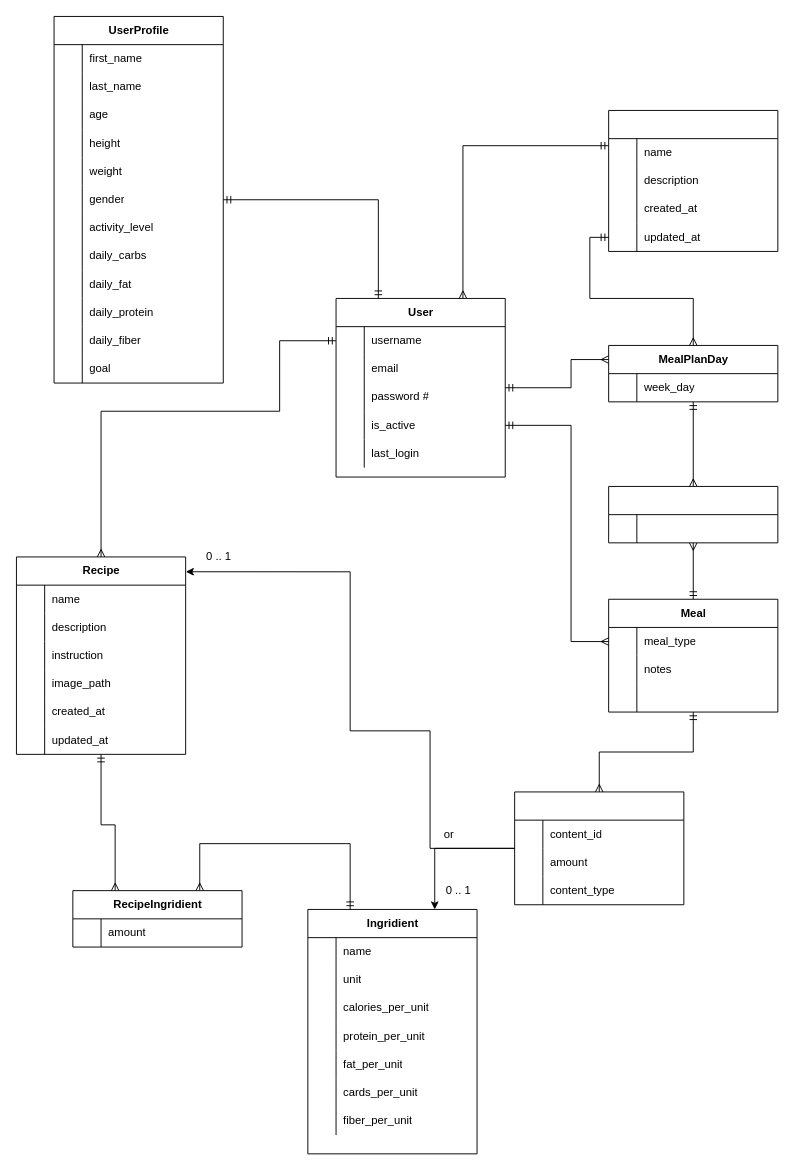
The diagram is 794 pixels wide and 1170 high, and some of its shapes have lost their labels. The box of each missing label's shape, as (x1, y1, x2, y2) in pixels:
MealItem: (514, 791, 684, 905)
MealPlan: (608, 110, 778, 251)
MealPlanDayMeal: (608, 486, 778, 543)
